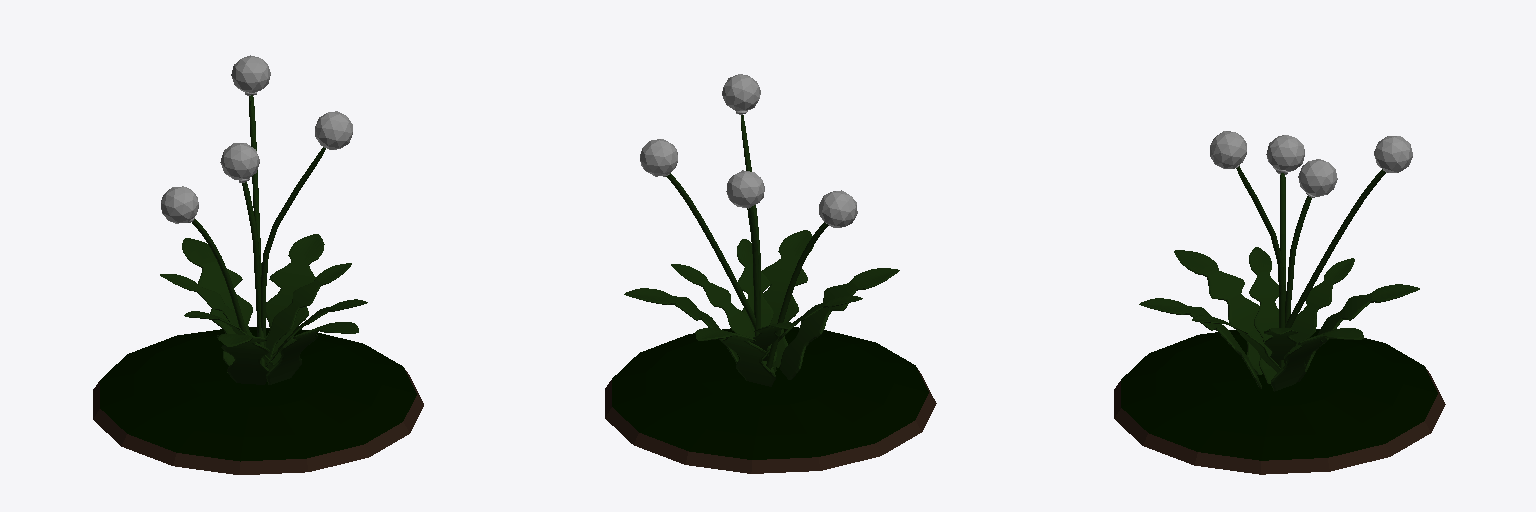
Rendered from Dandelion_428.obj.
3 renders of one model, left to right at view 1: azimuth 30°, elevation 25°; view 2: azimuth 150°, elevation 25°; view 3: azimuth 270°, elevation 25°, orthographic.
Parts seen in each view (by area): view 1: Sphere001, Box005; view 2: Sphere001, Box005; view 3: Sphere001, Box005.
Part boxes in pixels (bbox=[...]): Sphere001: bbox=[93, 327, 423, 474]; Box005: bbox=[160, 55, 367, 384]; Sphere001: bbox=[605, 327, 936, 473]; Box005: bbox=[624, 74, 899, 386]; Sphere001: bbox=[1114, 329, 1445, 474]; Box005: bbox=[1139, 131, 1419, 391].
Size of the model in its own units: 148 by 146 by 147.